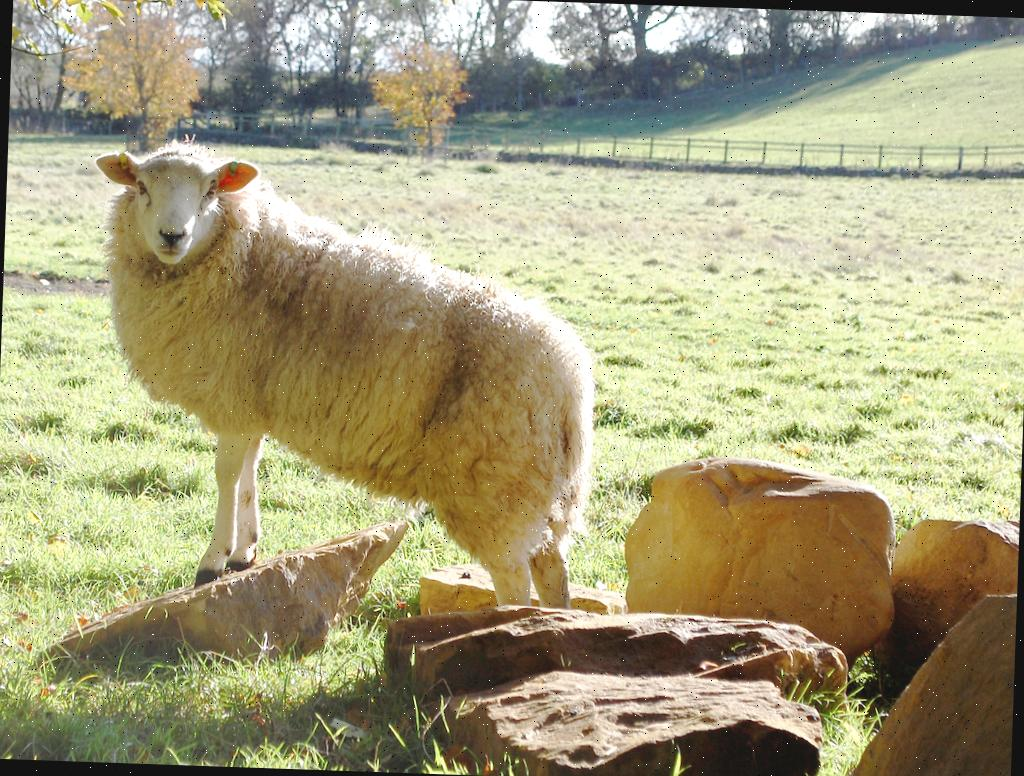Sheep: (80, 128, 602, 610)
